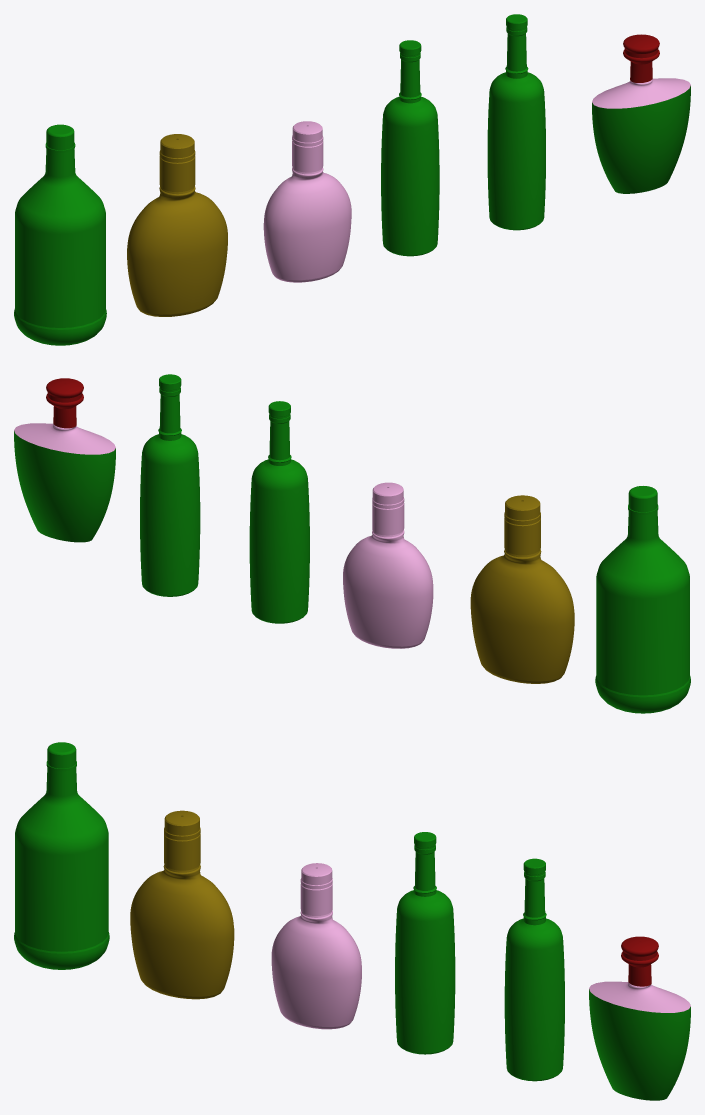
3 renders of one model, top to bottom at view 1: azimuth 30°, elevation 25°; view 2: azimuth 150°, elevation 25°; view 3: azimuth 330°, elevation 25°, orthographic. The views are drawn at different scales.
Parts seen in each view (by area): view 1: Galonera_001, Botella_7_Grande_001, Botella_25_001, Botella_20_001, Botella_7_peque_001, Group_001, Group_002, Group_003; view 2: Galonera_001, Botella_7_Grande_001, Botella_25_001, Botella_20_001, Botella_7_peque_001, Group_001, Group_002, Group_003; view 3: Galonera_001, Botella_7_Grande_001, Botella_25_001, Botella_20_001, Botella_7_peque_001, Group_001, Group_002, Group_003.
Boxes of the visible parts, box(x1,y1,x2,y2) form: Galonera_001: box(14, 124, 106, 345); Botella_7_Grande_001: box(127, 134, 227, 316); Botella_25_001: box(381, 40, 439, 256); Botella_20_001: box(487, 14, 545, 230); Botella_7_peque_001: box(263, 121, 351, 282); Group_001: box(592, 85, 690, 193); Group_002: box(592, 78, 690, 108); Group_003: box(623, 34, 659, 82); Galonera_001: box(595, 486, 690, 713); Botella_7_Grande_001: box(470, 495, 574, 683); Botella_25_001: box(249, 401, 309, 623); Botella_20_001: box(140, 374, 200, 596); Botella_7_peque_001: box(343, 482, 433, 648); Group_001: box(14, 431, 115, 542); Group_002: box(14, 423, 115, 454); Group_003: box(46, 378, 83, 428); Galonera_001: box(14, 742, 109, 969); Botella_7_Grande_001: box(130, 810, 234, 999); Botella_25_001: box(395, 832, 455, 1054); Botella_20_001: box(504, 858, 564, 1081); Botella_7_peque_001: box(271, 863, 361, 1029); Group_001: box(589, 989, 690, 1100); Group_002: box(589, 981, 690, 1012); Group_003: box(621, 936, 658, 986).
Bounding box in the file's own units: 1039 × 308 × 128.
